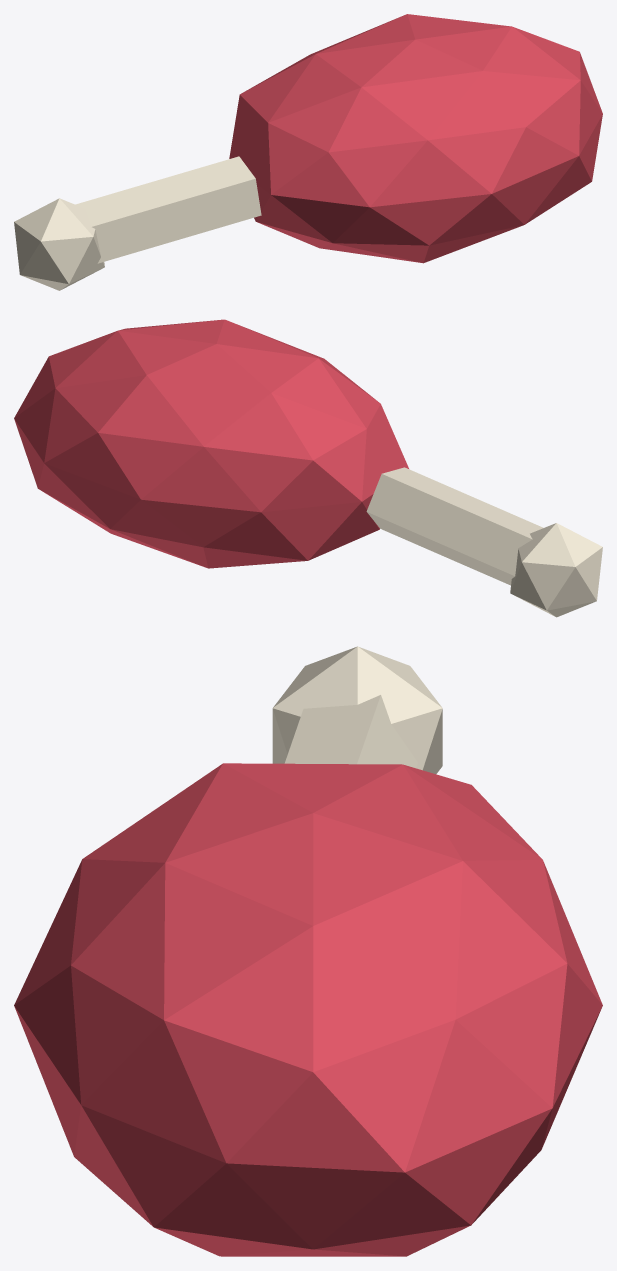
File: item_022_roast_meat_s.glb
The picture shows the model from 3 angles, top to bottom: view 1: azimuth 30°, elevation 25°; view 2: azimuth 150°, elevation 25°; view 3: azimuth 270°, elevation 25°; orthographic projection. The views are drawn at different scales.
Visible parts, largest first — view 1: item_022_roast_meat_s; view 2: item_022_roast_meat_s; view 3: item_022_roast_meat_s.
Part boxes in pixels (box(x1,y1,x2,y2)): item_022_roast_meat_s: box(14, 14, 602, 290); item_022_roast_meat_s: box(14, 319, 602, 617); item_022_roast_meat_s: box(14, 646, 602, 1256).
Bounding box in the file's own units: 0.5682 × 0.1855 × 0.2649.
